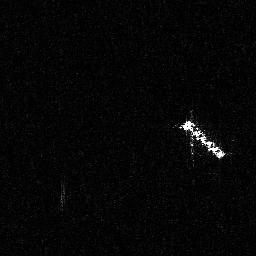ship: (174, 110, 230, 169)
